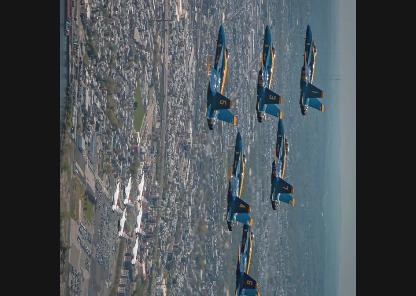F14: (136, 168, 150, 202), (123, 170, 135, 208), (111, 176, 123, 212), (131, 230, 143, 266), (134, 200, 146, 234), (118, 206, 130, 238)
F15: (205, 23, 237, 144), (255, 23, 283, 133), (227, 130, 253, 242), (271, 117, 296, 219), (300, 23, 324, 127), (235, 212, 261, 295)
